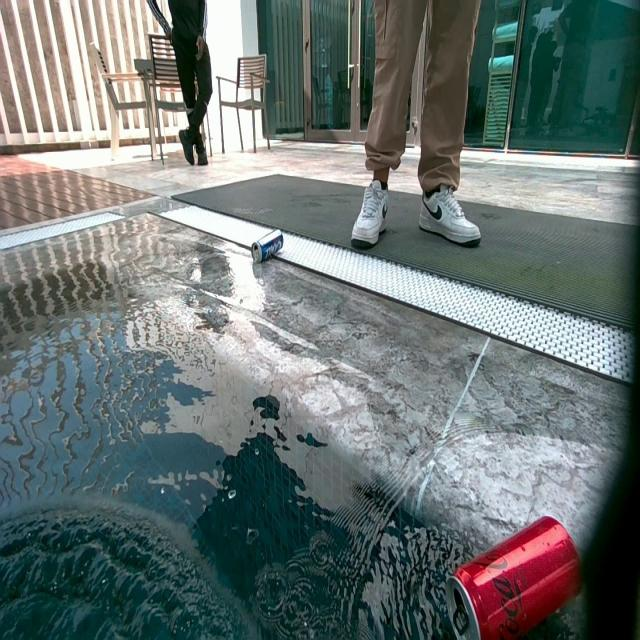Cans: (444, 515, 589, 640), (251, 229, 283, 263)
